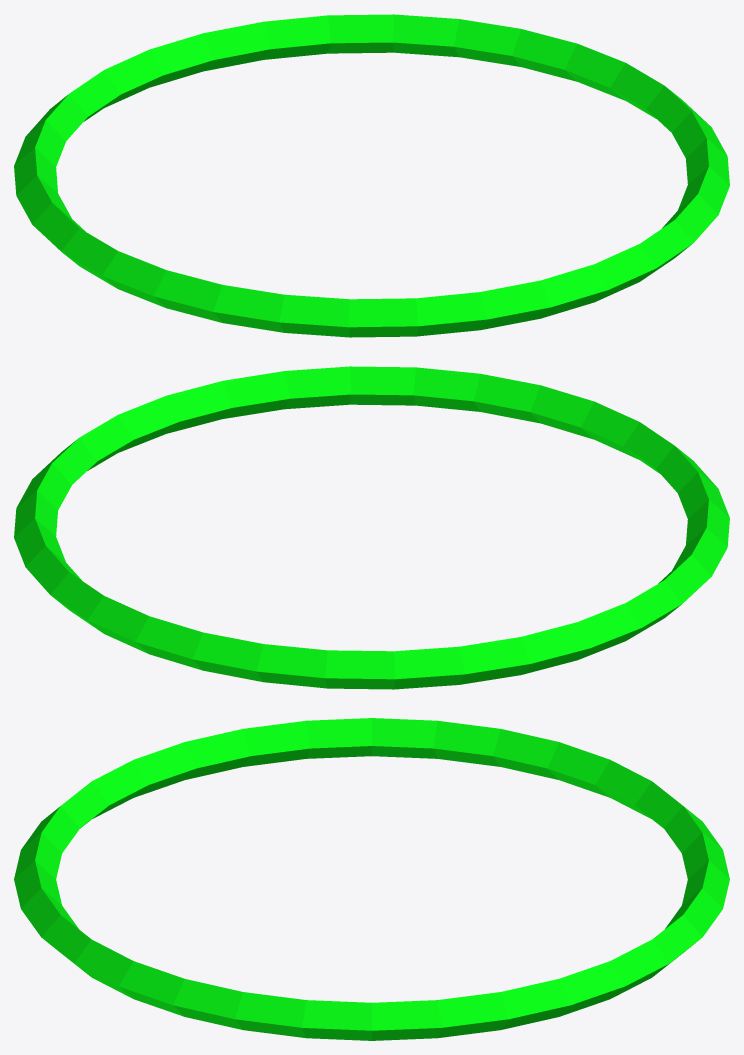
Rendered from ring.glb.
3 views of the same model, one above another, from view 1: azimuth 30°, elevation 25°; view 2: azimuth 150°, elevation 25°; view 3: azimuth 270°, elevation 25° (orthographic).
Visible parts, largest first — view 1: Torus; view 2: Torus; view 3: Torus.
Boxes of the visible parts, x1,y1,x2,y2 form: Torus: [14, 14, 729, 337]; Torus: [14, 366, 729, 689]; Torus: [14, 718, 729, 1040].
Size of the model in its own units: 8.5 by 0.5 by 8.5.
